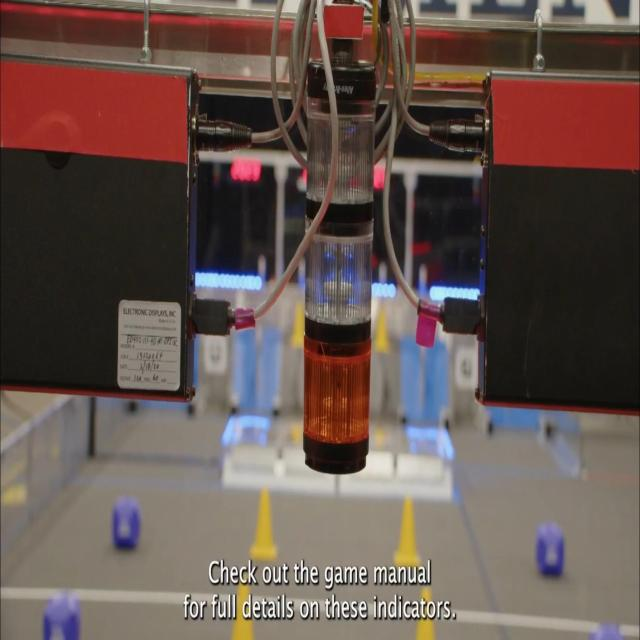frc_cone: (248, 486, 278, 561), (393, 494, 421, 568), (232, 573, 256, 639), (414, 587, 435, 638)
frc_cube: (42, 595, 82, 638), (535, 522, 565, 577), (112, 496, 140, 550), (591, 619, 623, 638)
